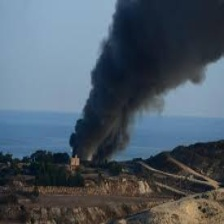smoke: (71, 2, 220, 159)
